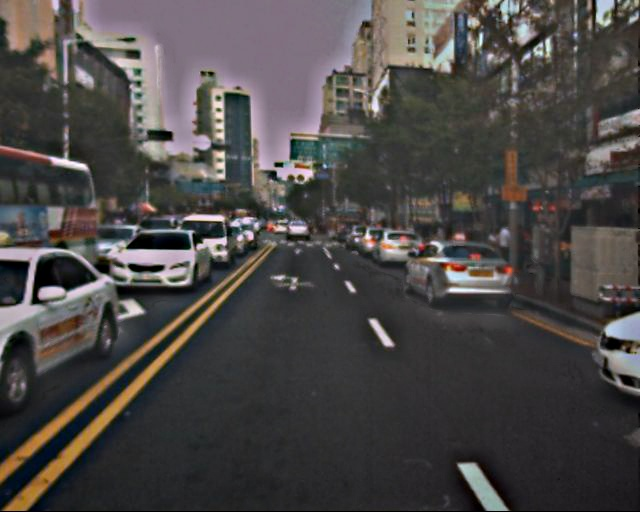person: (491, 220, 517, 283)
